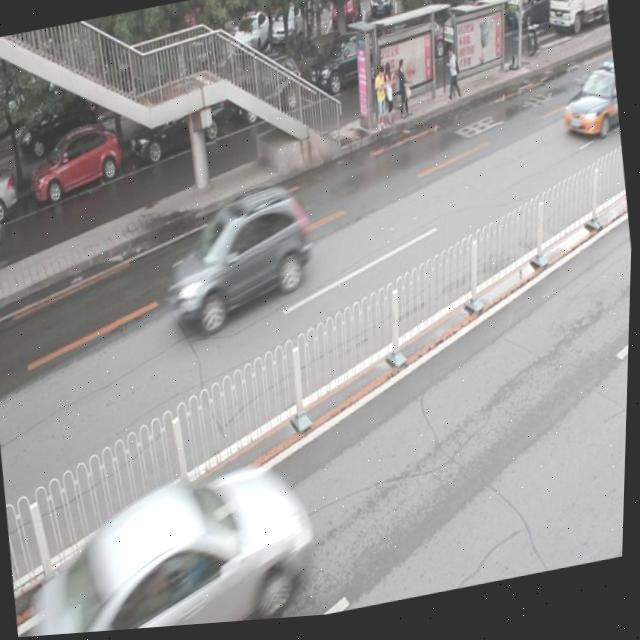bus: (542, 0, 611, 42)
car: (36, 460, 320, 637), (161, 189, 319, 340), (27, 122, 127, 209), (127, 88, 230, 169), (227, 53, 308, 133), (305, 30, 388, 106), (559, 71, 623, 153), (0, 158, 22, 232)
